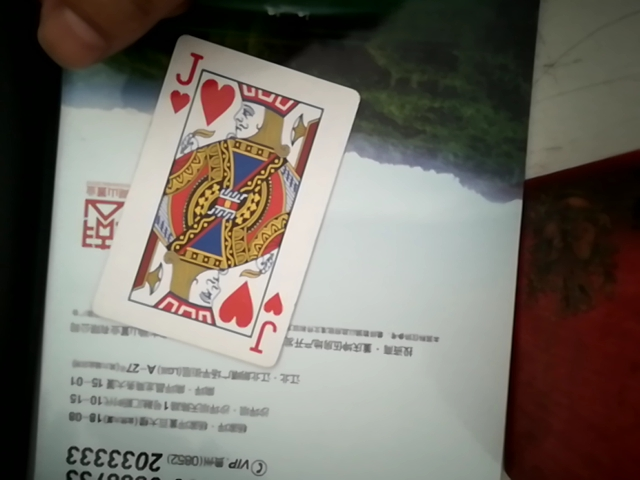hx j: (66, 29, 361, 376)
